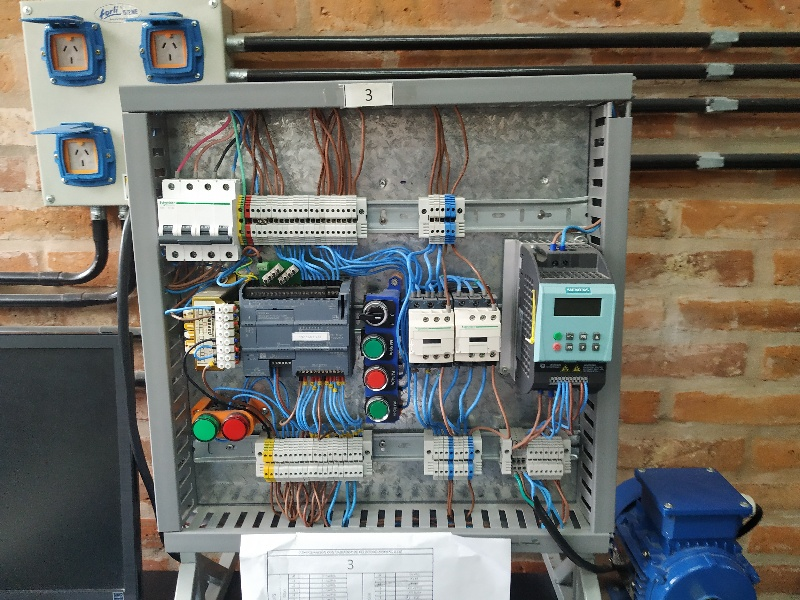Tablero 3: (137, 104, 616, 541)
